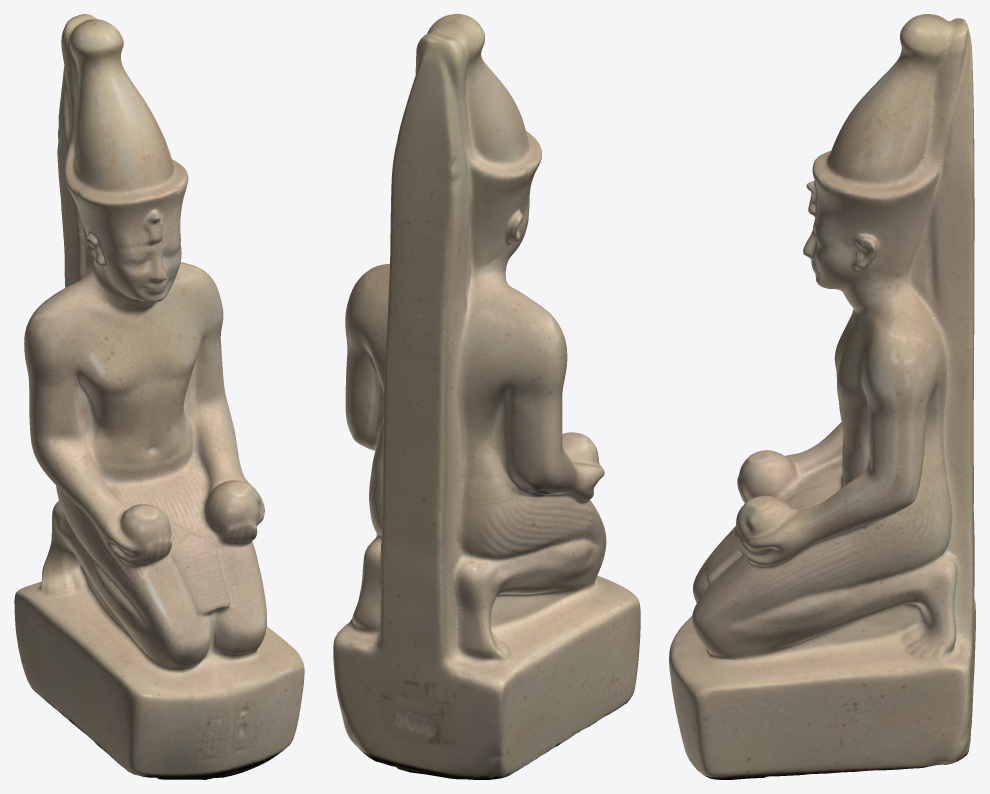
File: kneeling_statue_of_amenhotep_ii_replica.glb
3 renders of one model, left to right at view 1: azimuth 30°, elevation 25°; view 2: azimuth 150°, elevation 25°; view 3: azimuth 270°, elevation 25°, orthographic. The views are drawn at different scales.
Visible parts, largest first — view 1: MFA99.733andLouvreE3176_Amenhotep_II replica_Leo simplified.; view 2: MFA99.733andLouvreE3176_Amenhotep_II replica_Leo simplified.; view 3: MFA99.733andLouvreE3176_Amenhotep_II replica_Leo simplified..
Boxes of the visible parts, x1,y1,x2,y2 form: MFA99.733andLouvreE3176_Amenhotep_II replica_Leo simplified.: [14, 14, 304, 779]; MFA99.733andLouvreE3176_Amenhotep_II replica_Leo simplified.: [333, 14, 640, 779]; MFA99.733andLouvreE3176_Amenhotep_II replica_Leo simplified.: [669, 14, 975, 779].
Size of the model in its own units: 103 by 349 by 134.
Materials: 1 (1 with a texture image).
